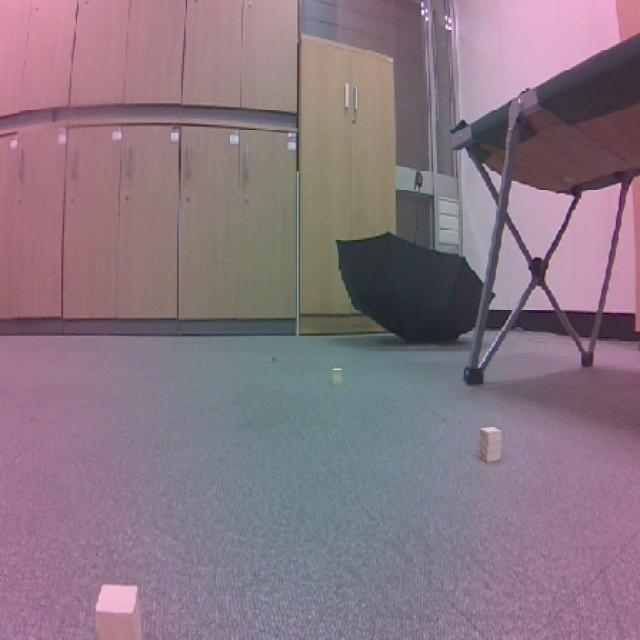obstacle: (476, 422, 512, 470)
